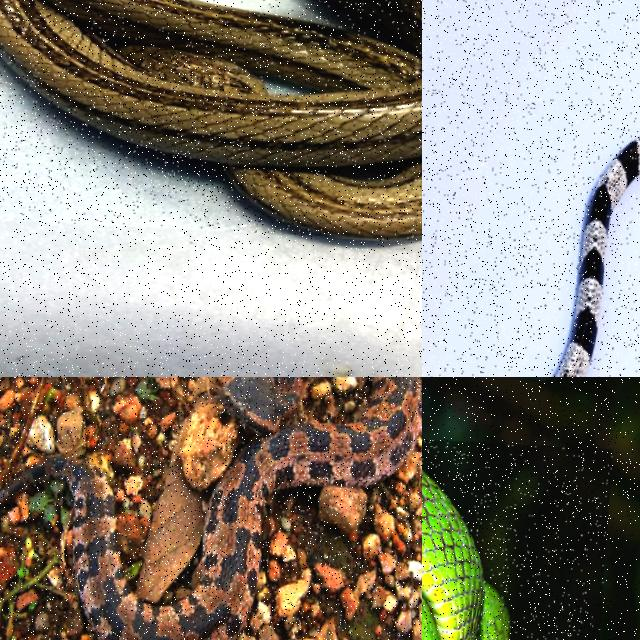Bungarus candidus: (556, 137, 639, 376)
Calliophis intestinalis: (0, 0, 421, 238)
Ovophis monticola: (0, 377, 421, 639)
Trimeresurus macrops: (422, 472, 507, 639)
snake: (0, 377, 421, 639), (0, 0, 421, 238), (556, 137, 639, 376), (422, 472, 507, 639)
